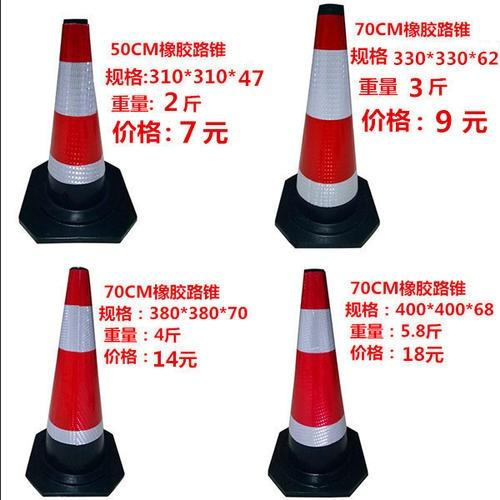cone_barrel: (279, 10, 374, 245), (268, 270, 363, 490), (29, 273, 121, 490), (28, 20, 123, 230)
